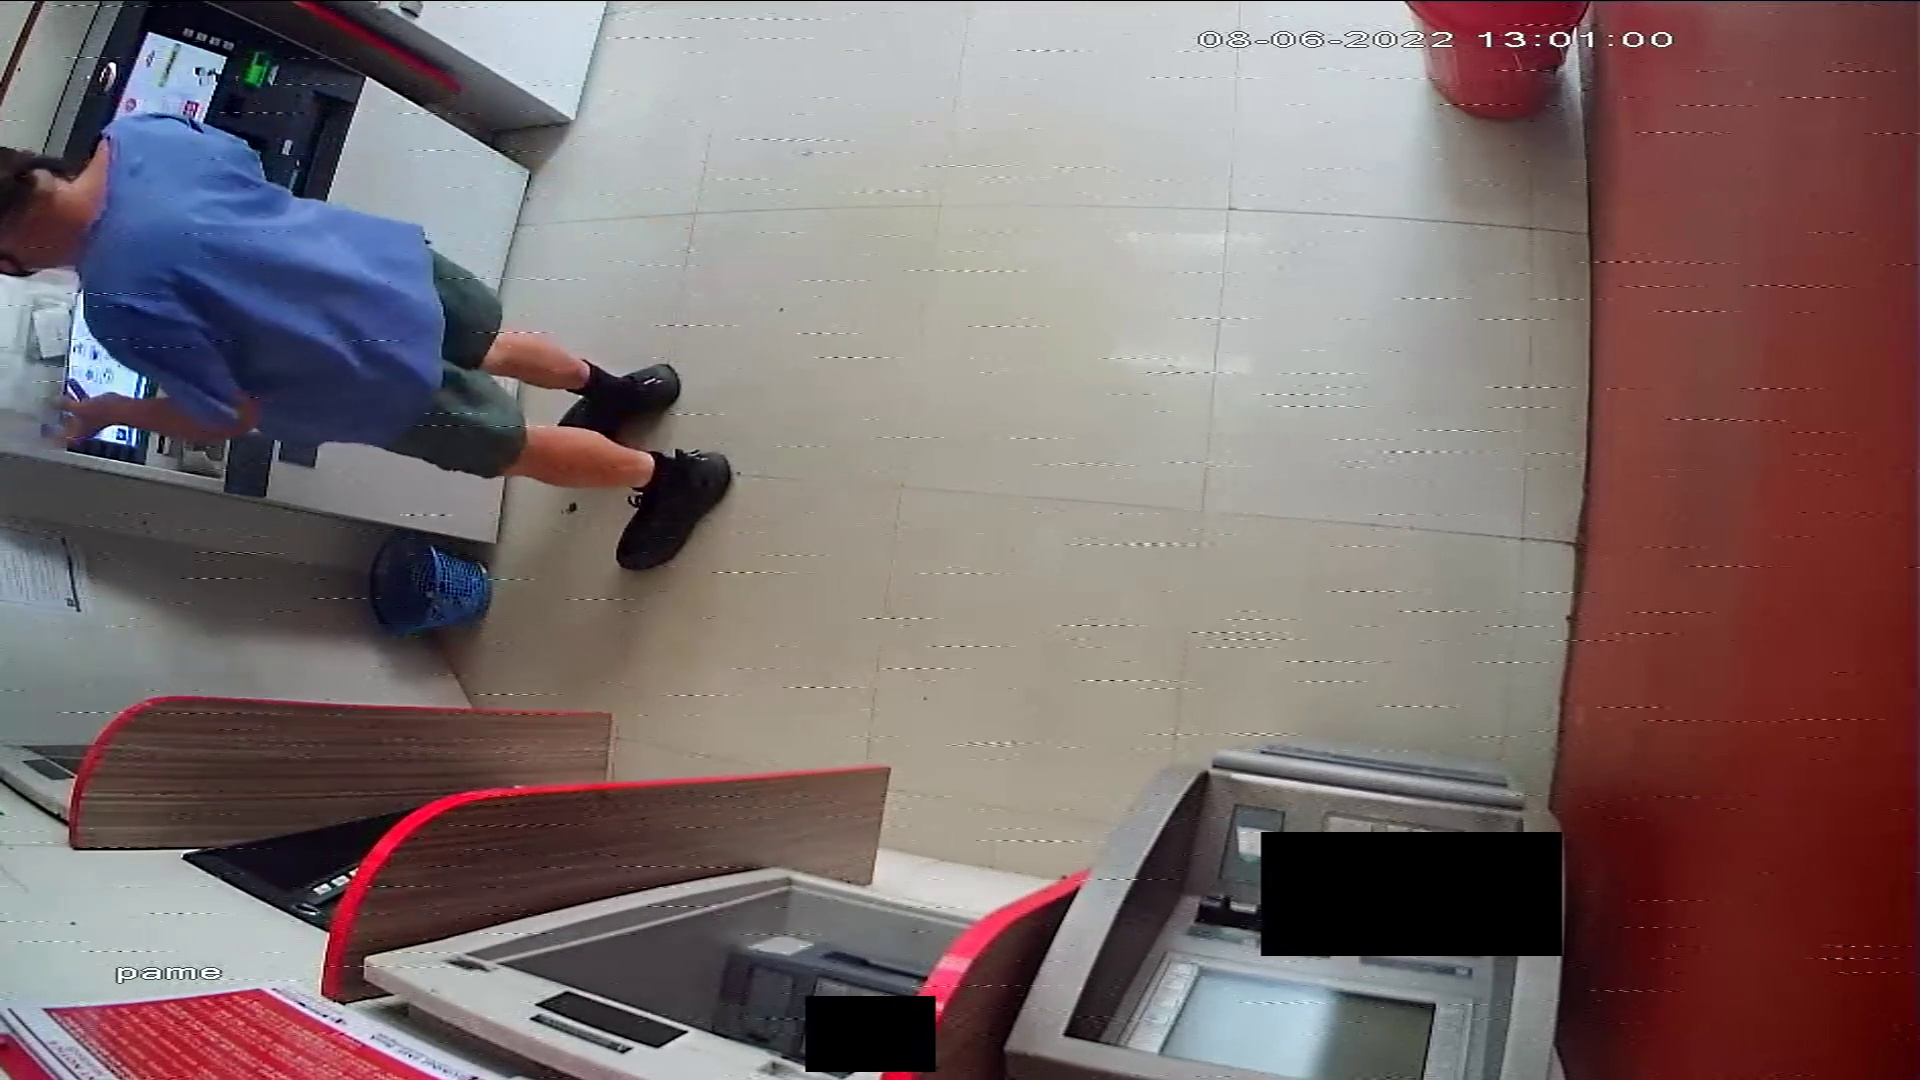person: (2, 111, 732, 571)
